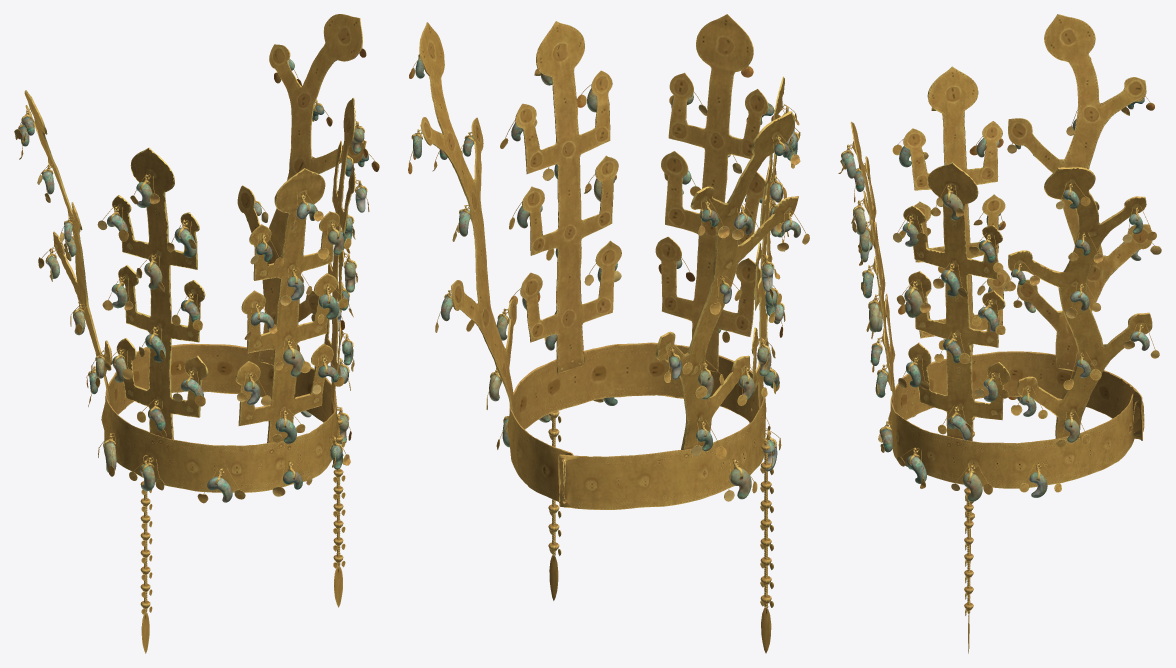
The model's file is crown_side_ornaments_v4.glb.
3 renders of one model, left to right at view 1: azimuth 30°, elevation 25°; view 2: azimuth 150°, elevation 25°; view 3: azimuth 270°, elevation 25°, orthographic. The views are drawn at different scales.
Visible parts, largest first — view 1: Original_body_3, Original_body_4, Original_body_2, Original_body_6, Original_body_1, Original_body_5; view 2: Original_body_3, Original_body_5, Original_body_4, Original_body_1, Original_body_6, Original_body_2; view 3: Original_body_3, Original_body_5, Original_body_1, Original_body_6, Original_body_2, Original_body_4.
Boxes of the visible parts, <box> form: Original_body_3: <box>101,343,339,492</box>; Original_body_4: <box>235,168,339,442</box>; Original_body_2: <box>112,147,208,439</box>; Original_body_6: <box>237,14,366,365</box>; Original_body_1: <box>24,90,112,404</box>; Original_body_5: <box>324,97,355,411</box>; Original_body_3: <box>506,342,766,509</box>; Original_body_5: <box>515,21,621,373</box>; Original_body_4: <box>655,14,768,372</box>; Original_body_1: <box>655,111,798,449</box>; Original_body_6: <box>419,22,516,415</box>; Original_body_2: <box>751,76,784,409</box>; Original_body_3: <box>888,351,1142,488</box>; Original_body_5: <box>903,162,1010,440</box>; Original_body_1: <box>1008,14,1152,371</box>; Original_body_6: <box>1008,167,1152,438</box>; Original_body_2: <box>903,66,1010,366</box>; Original_body_4: <box>850,121,896,410</box>.
Size of the model in its own units: 0.3501 by 0.5267 by 0.2981.
4 materials, 4 textured.
